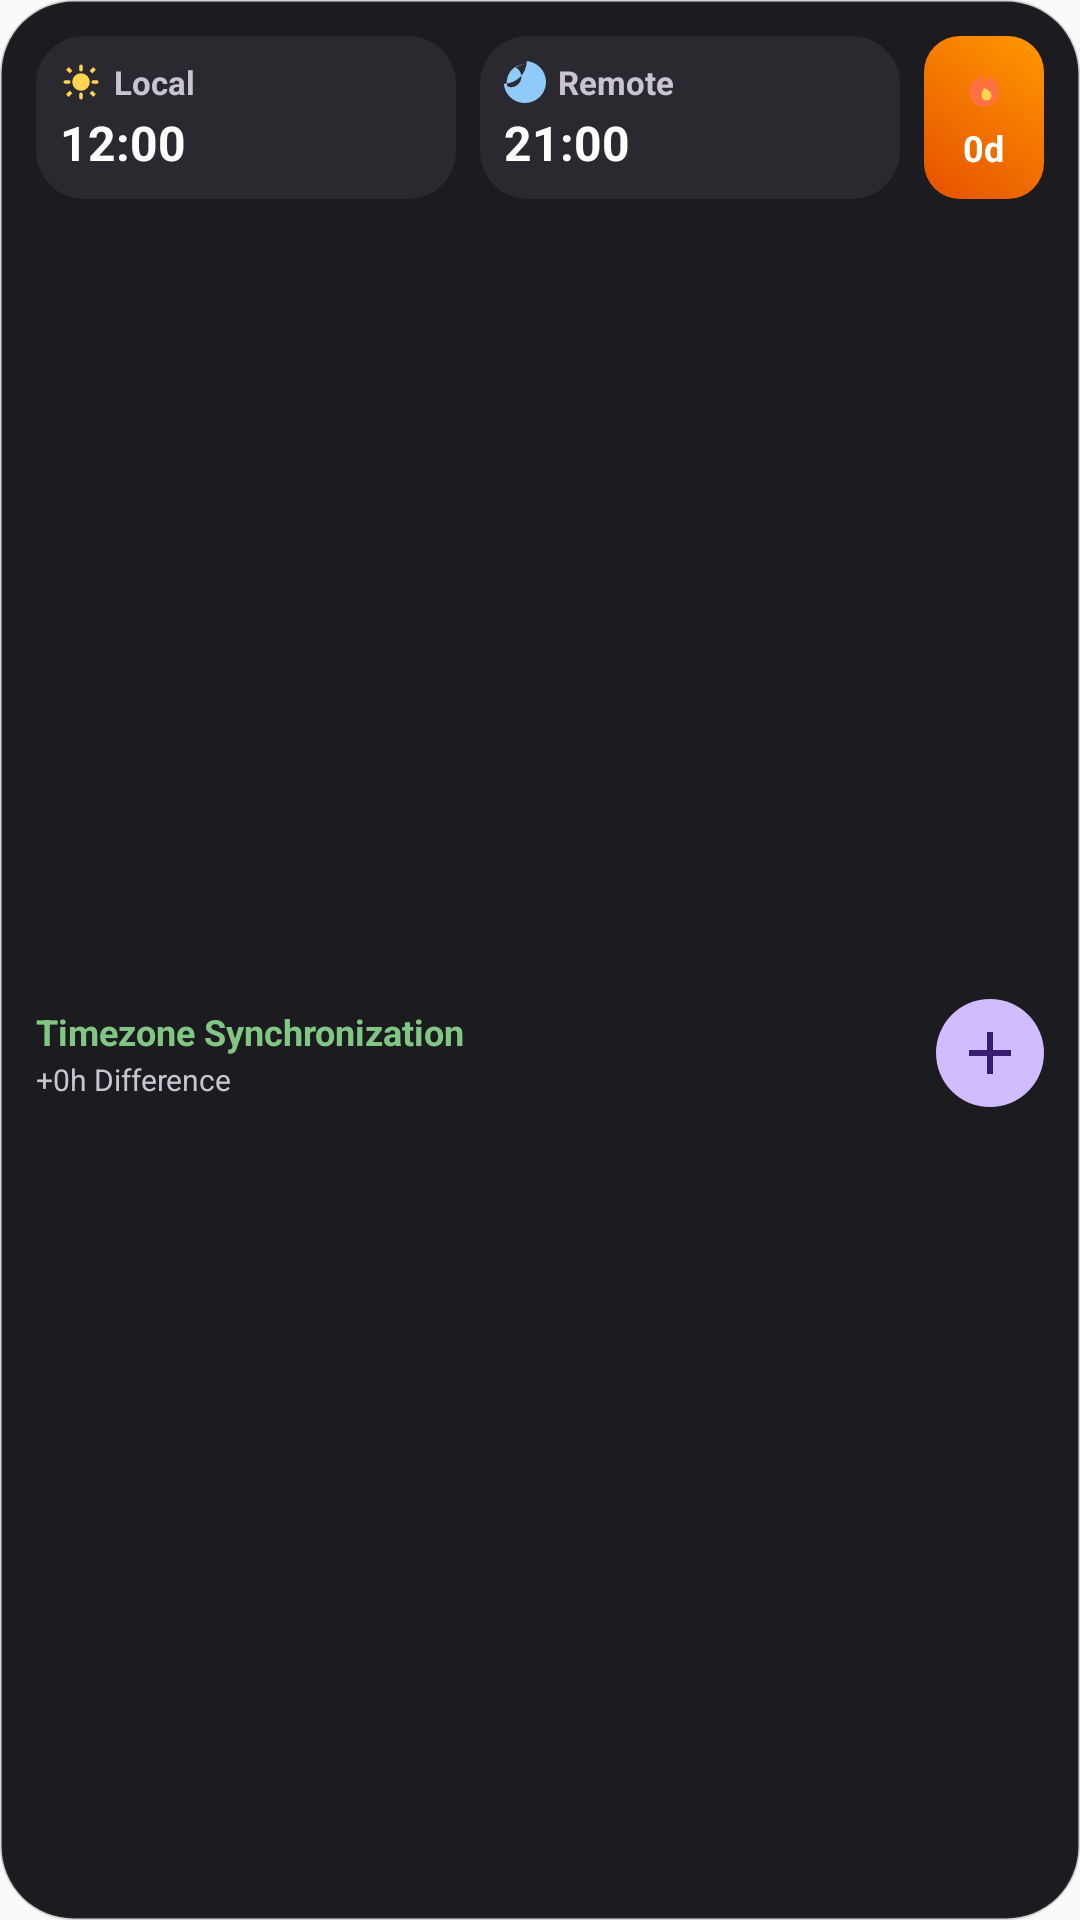

Named icons in this screenshot (1080 x 1920) and their bounding boxes, (x1, y1, x2, y2):
Quick Add Activity: (936, 999, 1044, 1107)
Streak: (969, 73, 999, 107)
widget moon: (504, 61, 546, 103)
widget sun: (63, 64, 99, 100)
